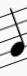G: (5, 5, 26, 64)
